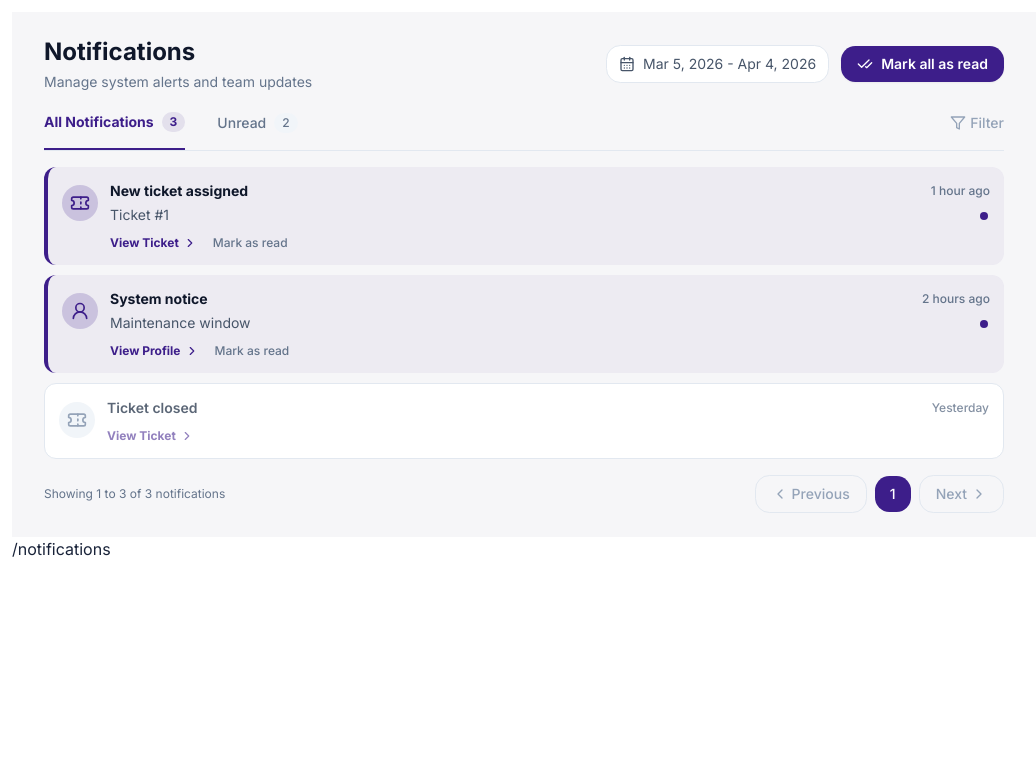
Test case: Notifications page › opens ticket route from notification item
The image size is (1036, 780).
Click the button "New ticket assigned": (187, 191) x1=110 y1=181 x2=264 y2=201
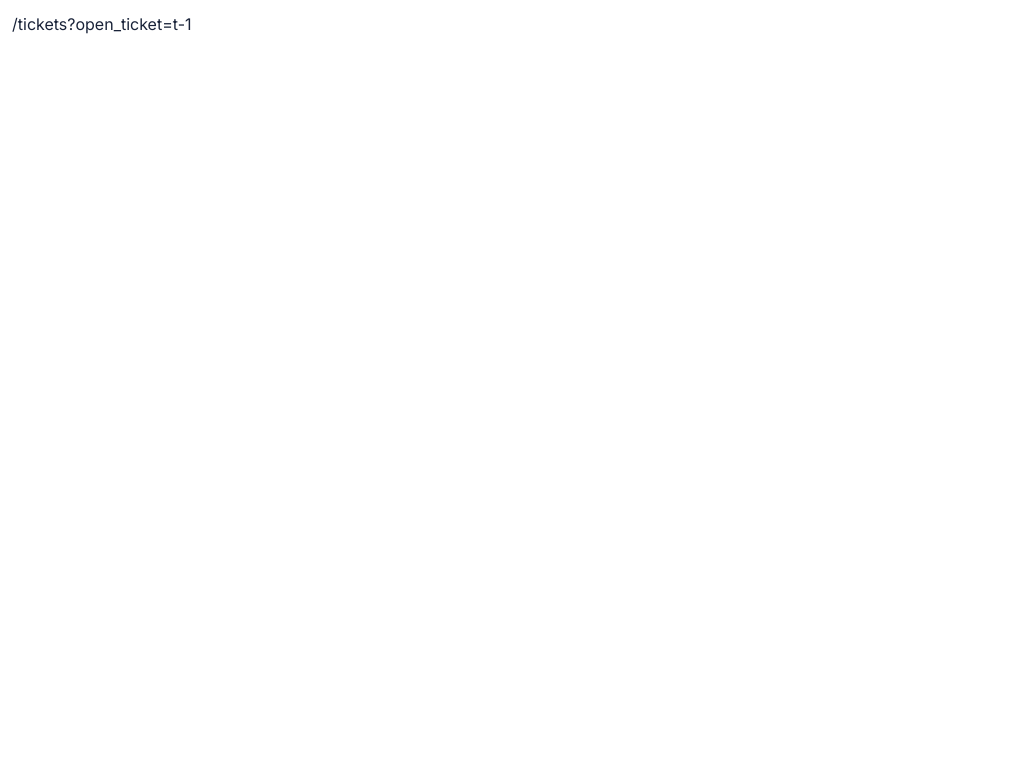
Expected: the text with test id "location" reads "/tickets?open_ticket=t-1", x1=12 y1=14 x2=192 y2=34
